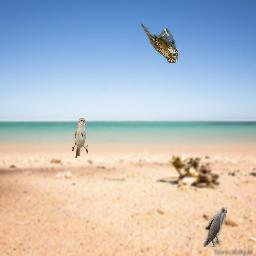Cuckoo: (203, 207, 227, 247)
Sparrow: (141, 23, 178, 63), (72, 118, 88, 158)
